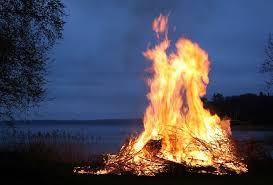fire: (134, 8, 233, 168)
